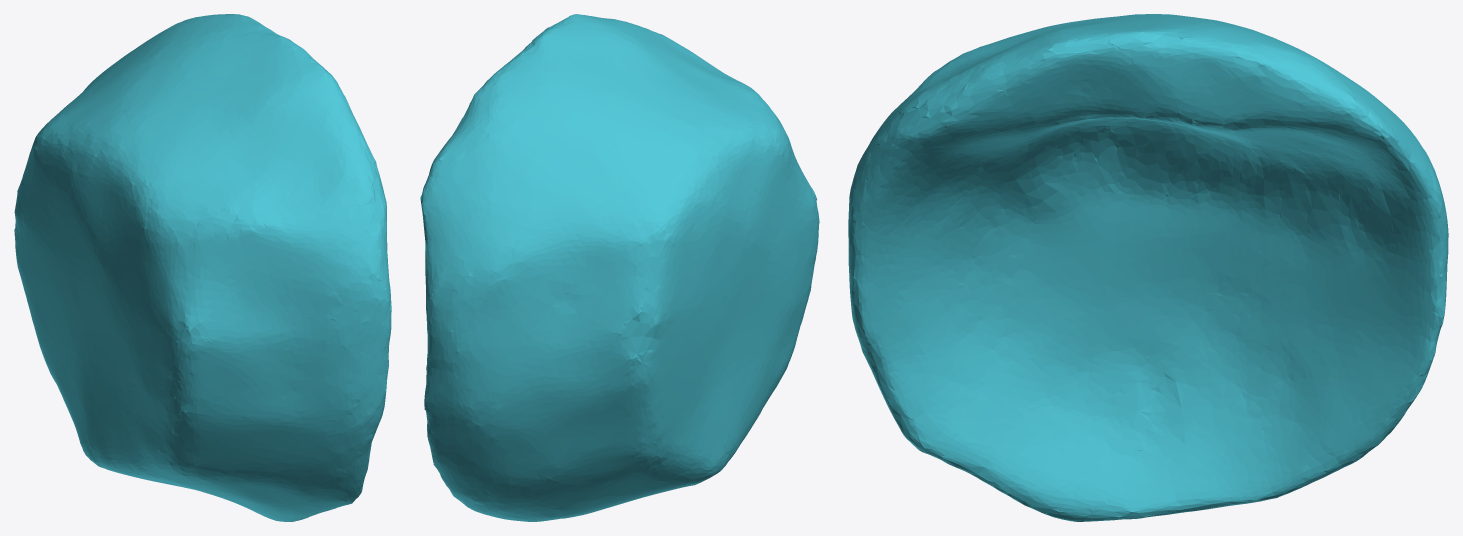
The picture shows the model from 3 angles, left to right: view 1: azimuth 30°, elevation 25°; view 2: azimuth 150°, elevation 25°; view 3: azimuth 270°, elevation 25°; orthographic projection. The views are drawn at different scales.
Parts seen in each view (by area): view 1: Renderer Node; view 2: Renderer Node; view 3: Renderer Node.
Boxes of the visible parts, x1=… form: Renderer Node: x1=14, y1=14, x2=391, y2=521; Renderer Node: x1=420, y1=14, x2=819, y2=521; Renderer Node: x1=848, y1=14, x2=1448, y2=521.
Bounding box in the file's own units: 0.2761 × 0.5614 × 0.6033.
Materials: 1 (1 with a texture image).
